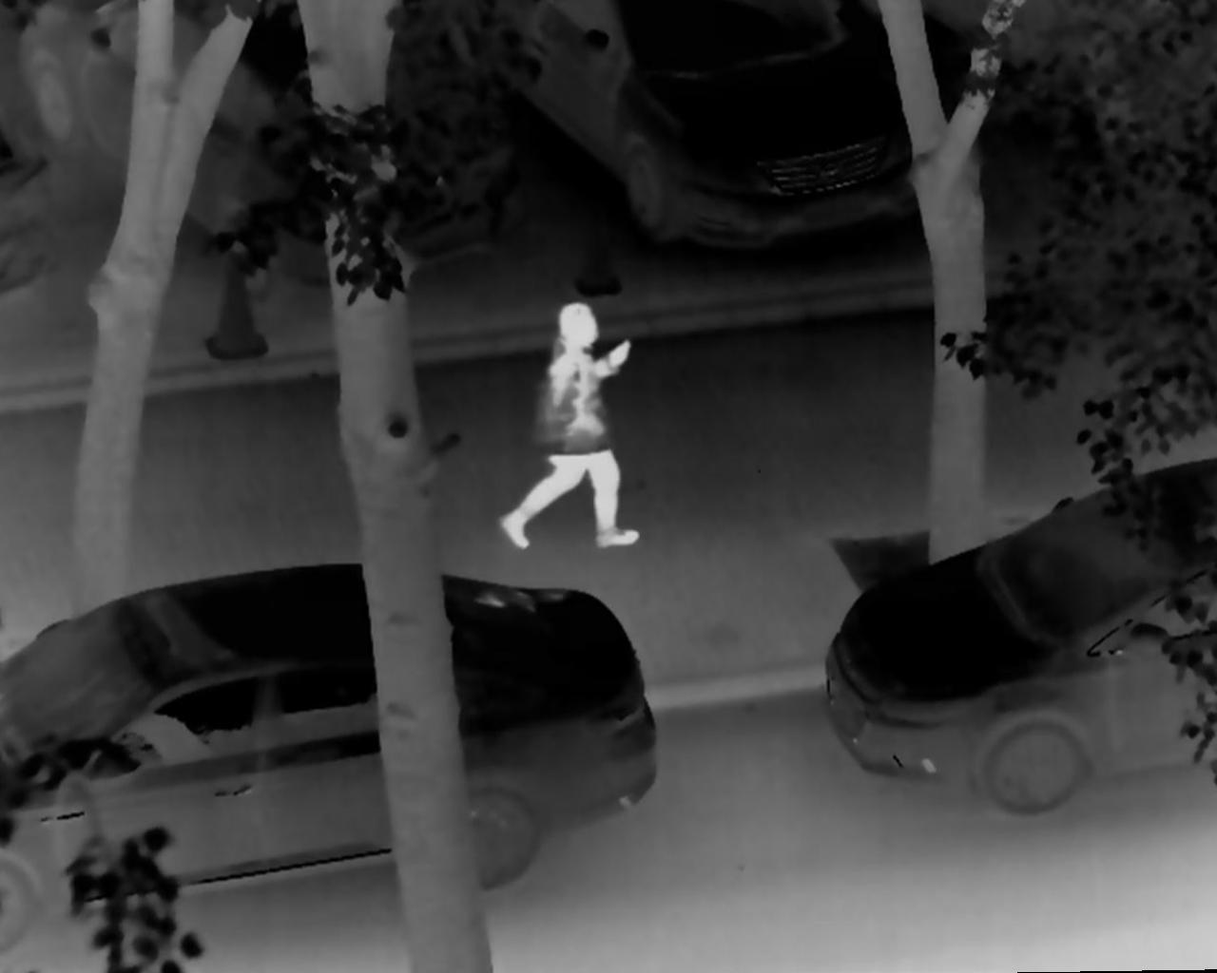person: (497, 297, 647, 555)
